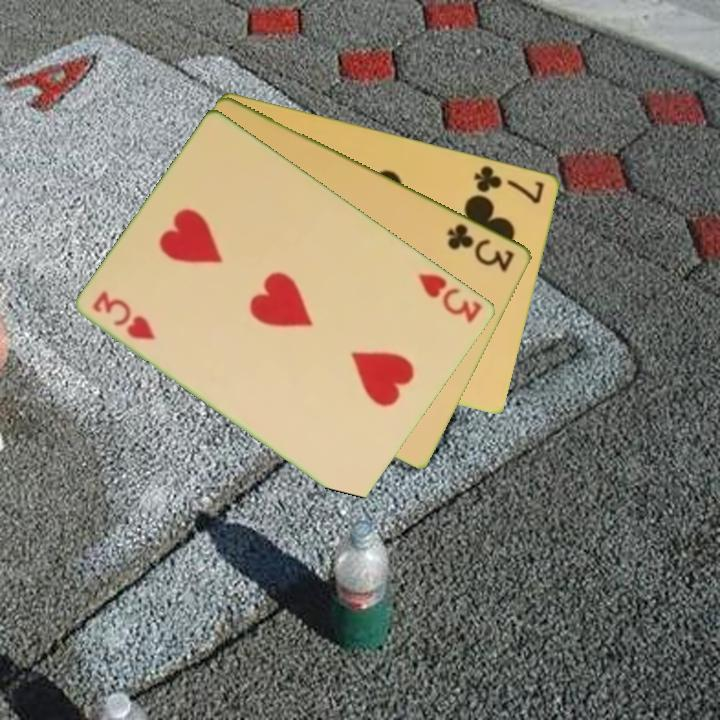3c: (444, 220, 518, 274)
3h: (415, 269, 486, 326), (89, 287, 159, 343)
7c: (470, 162, 548, 207)
